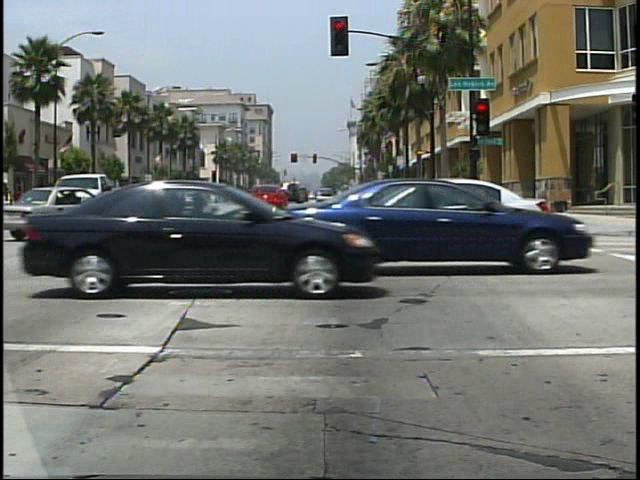person: (2, 172, 21, 231)
